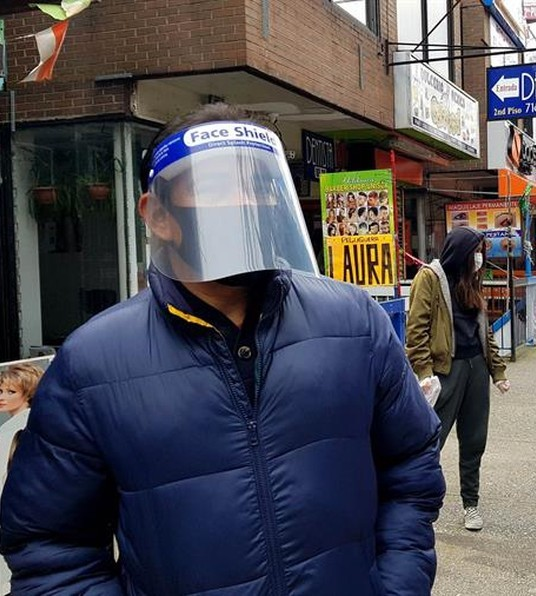with_mask: (155, 121, 294, 292), (442, 226, 490, 287)
